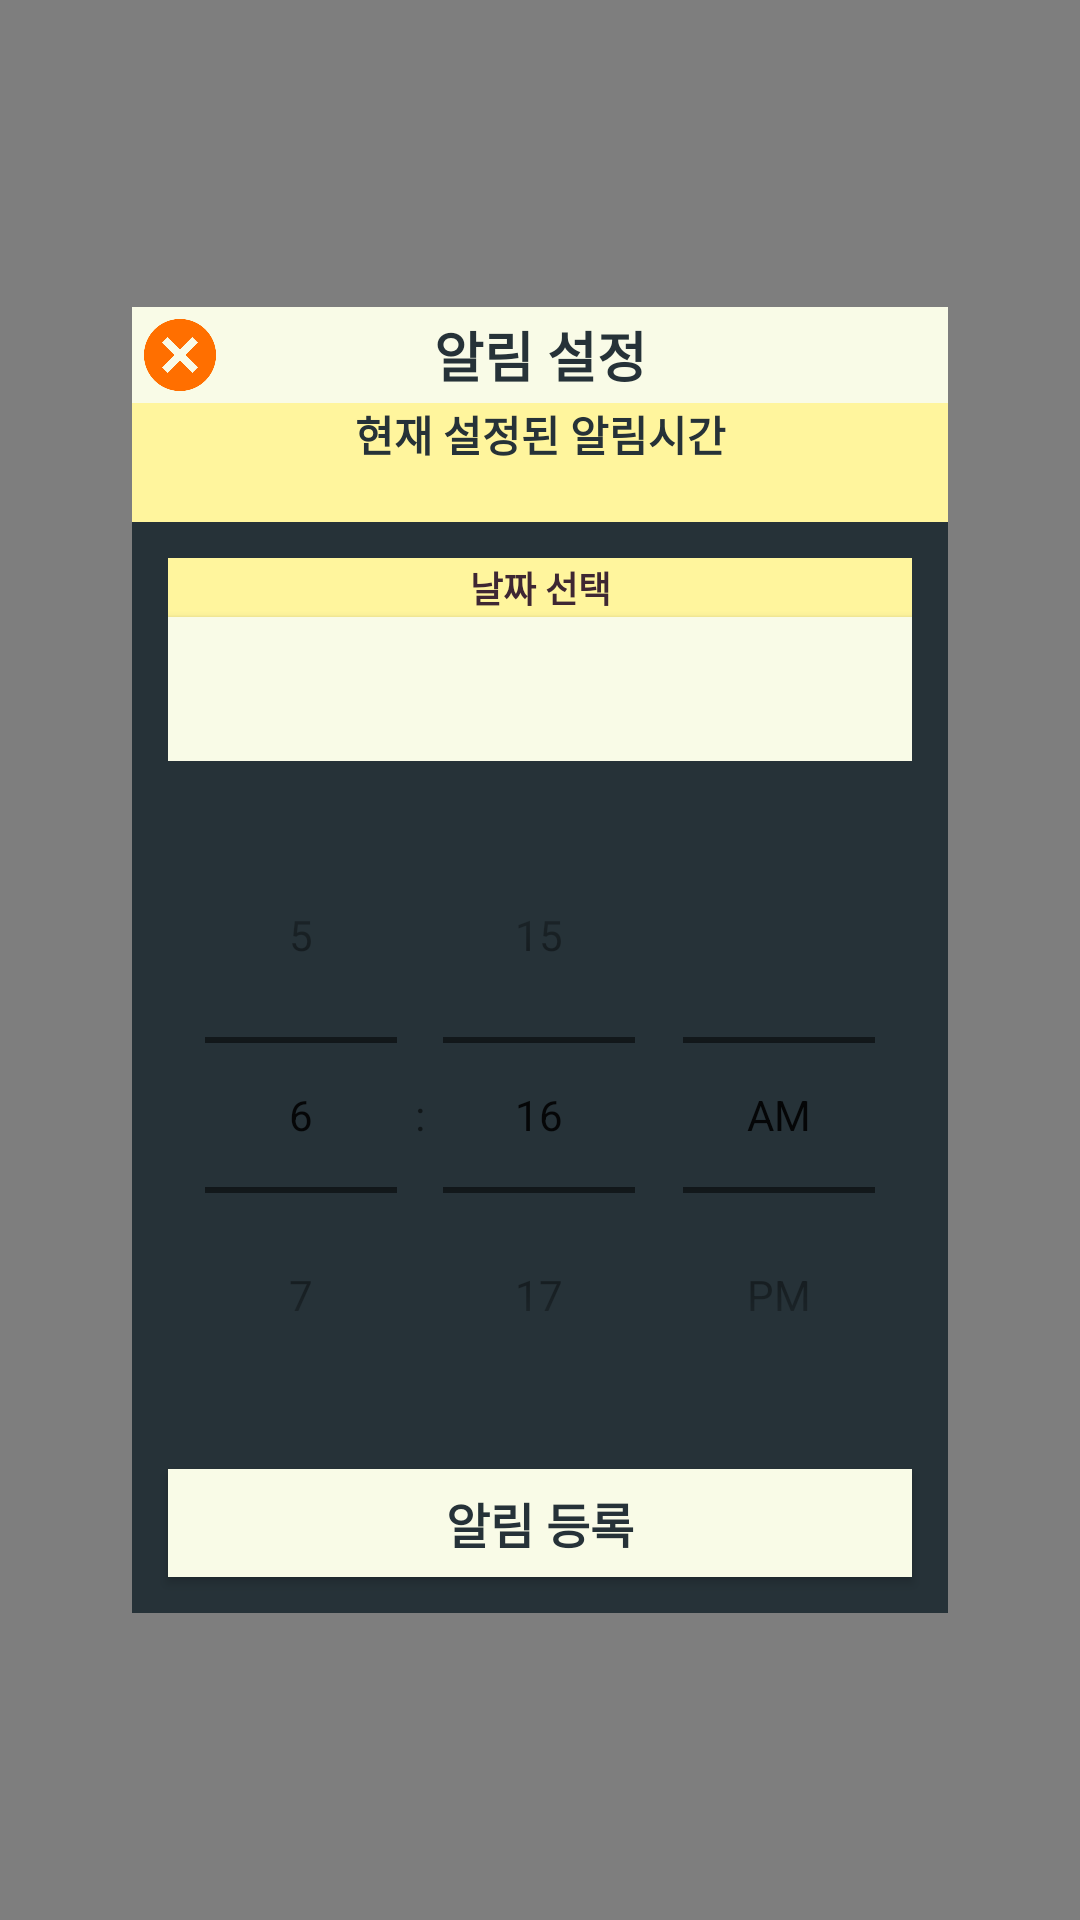

Point at icon controls on the screen. Image size 1080w x 1920h, points as (x,y).
Close the AlarmFragment: (180,355)
